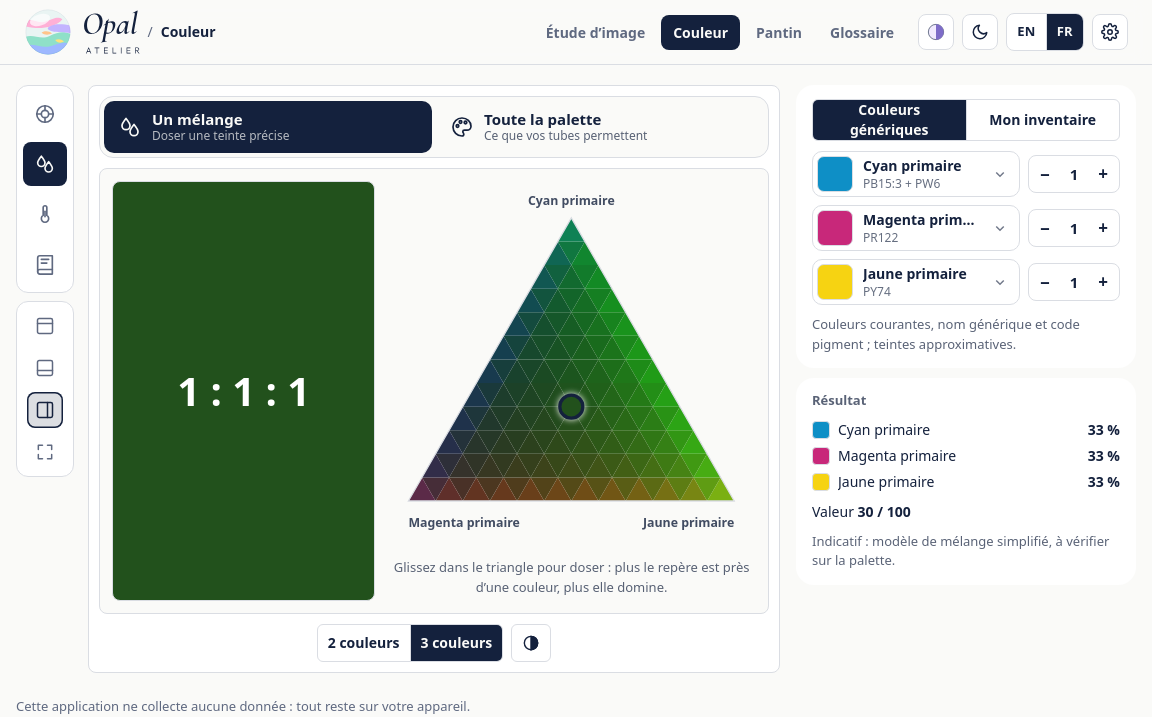
Test: Colour tool › mixing simulator › picks a colour by searching, without accents
Click the button with aria-label "Couleur 1 : Cyan primaire. Changer" at (916, 174), box [812, 151, 1020, 197]
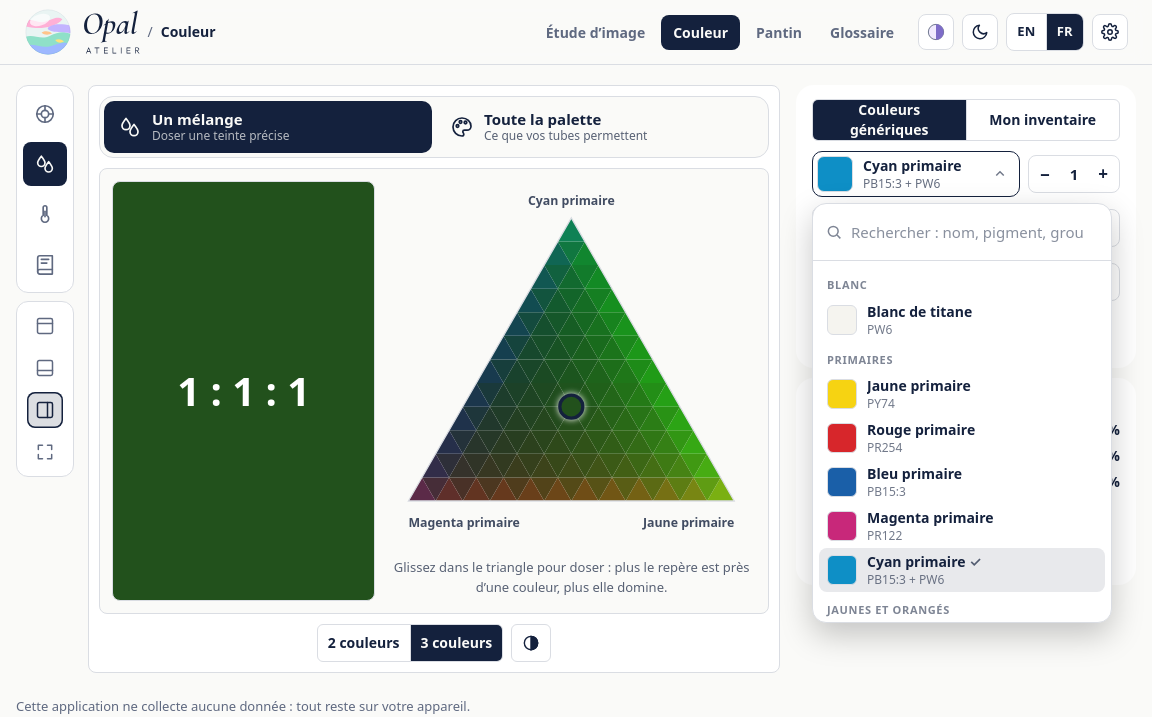
Type "ceruleen" into the search field at (975, 232), box [851, 214, 1099, 250]
Then press Enter
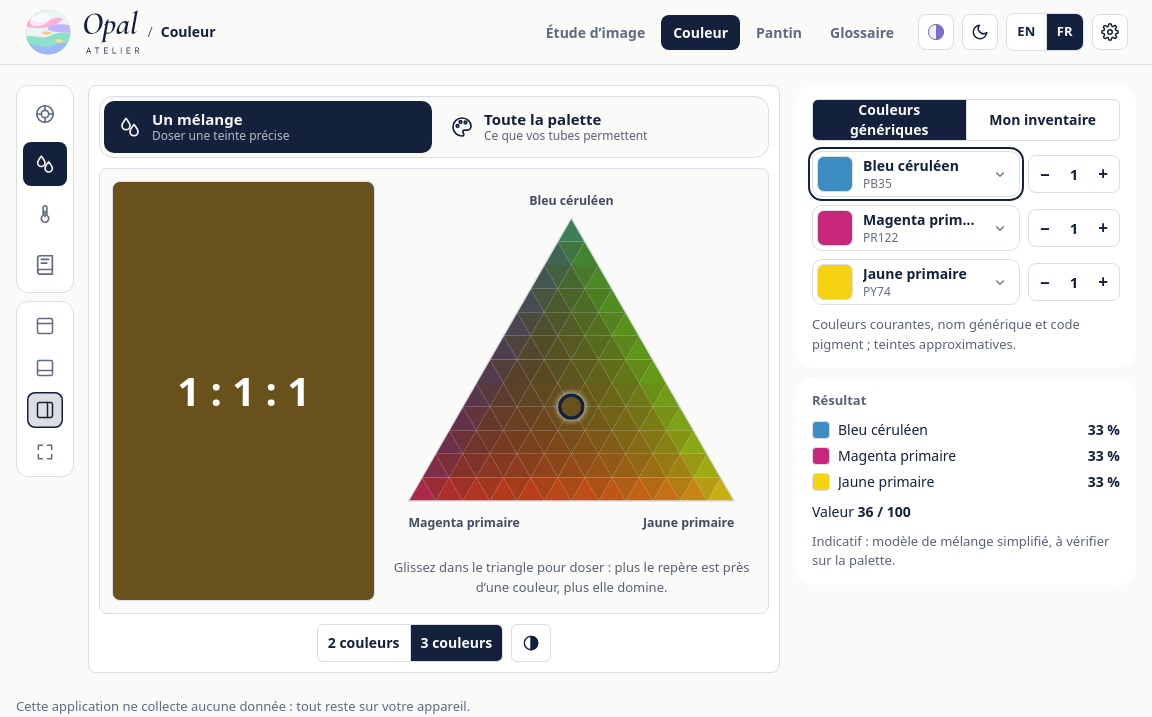
Expected: the dialog is gone
